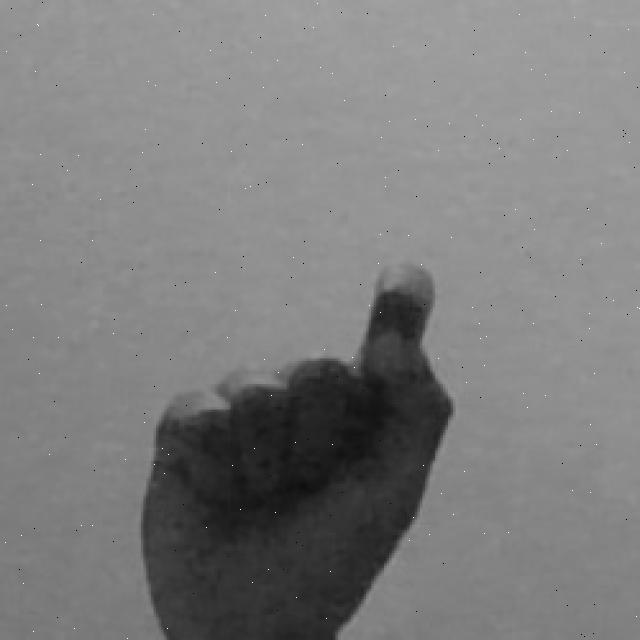T: (134, 255, 460, 640)
